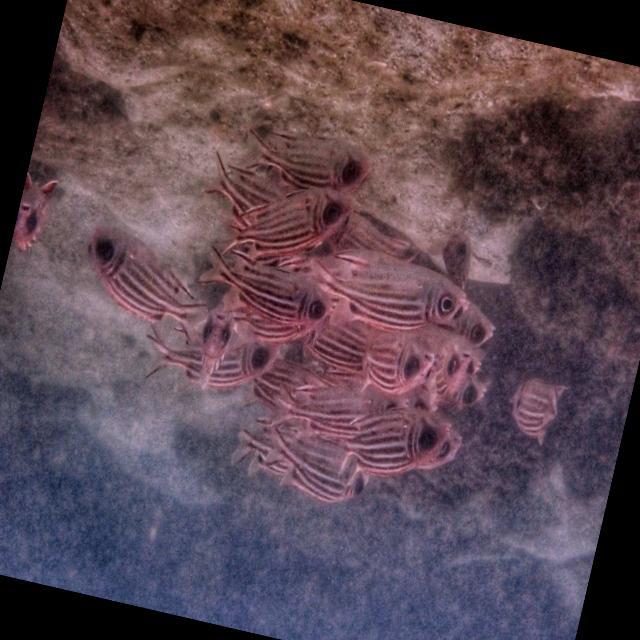Asker Baligi: (58, 210, 230, 368), (188, 158, 380, 291), (317, 378, 465, 507)
